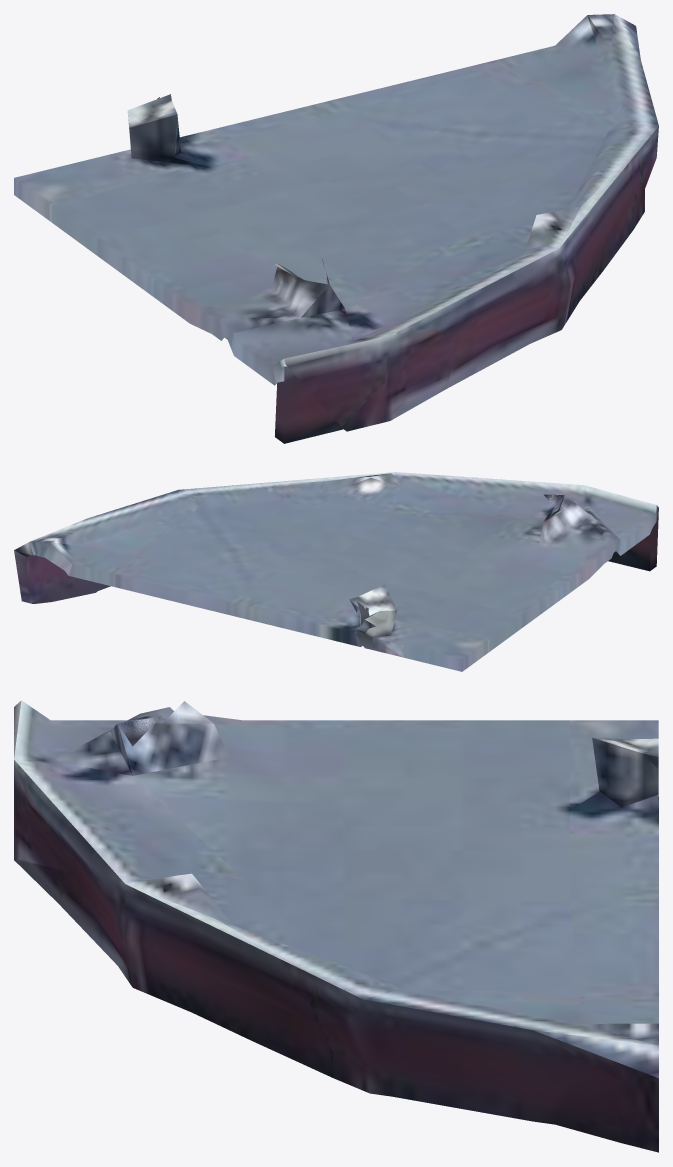
3 views of the same model, one above another, from view 1: azimuth 30°, elevation 25°; view 2: azimuth 150°, elevation 25°; view 3: azimuth 270°, elevation 25° (orthographic). The views are drawn at different scales.
Visible parts, largest first — view 1: 30436272704370605616_0; view 2: 30436272704370605616_0; view 3: 30436272704370605616_0.
Part boxes in pixels (<box>): 30436272704370605616_0: <box>14,14,658,443</box>; 30436272704370605616_0: <box>14,472,658,671</box>; 30436272704370605616_0: <box>14,700,658,1152</box>.
Size of the model in its own units: 17.64 by 3.24 by 13.42.
Materials: 1 (1 with a texture image).
